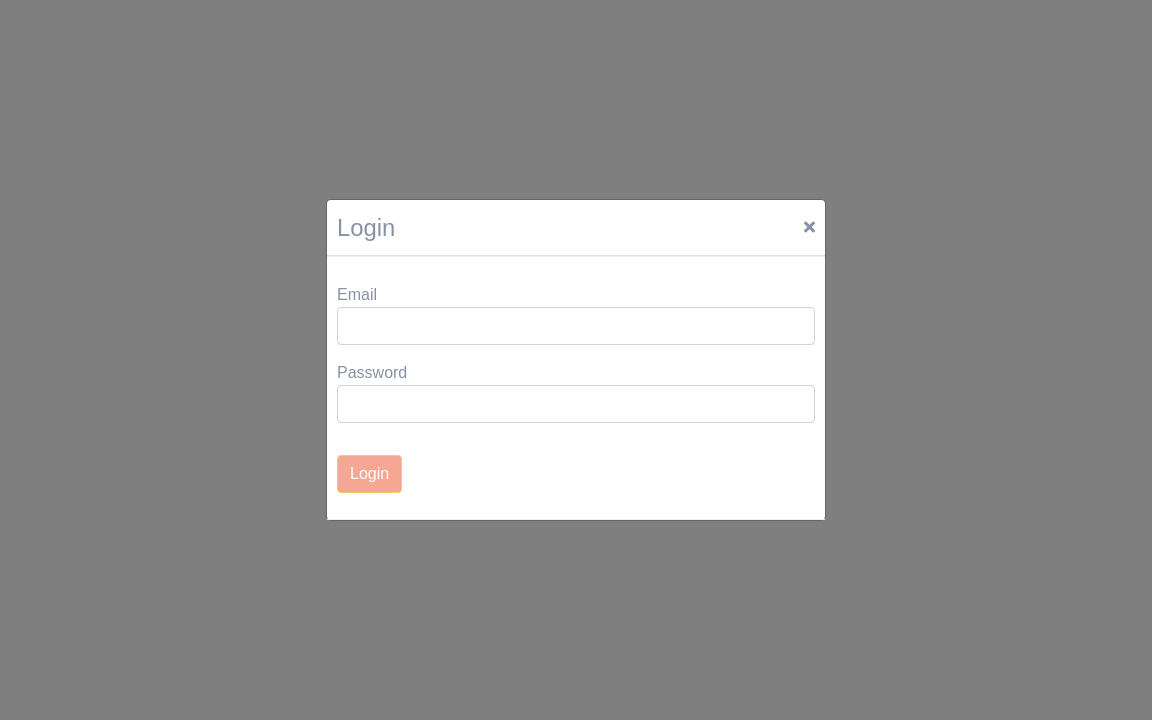
Scenario: Login › Login Form validation › Invalid credentials Login button should be "disabled" and err messages "should" present
Type "solar@@solar.com" into the field labelled "Email" at (576, 326), box top-left (337, 307), bottom-right (815, 345)
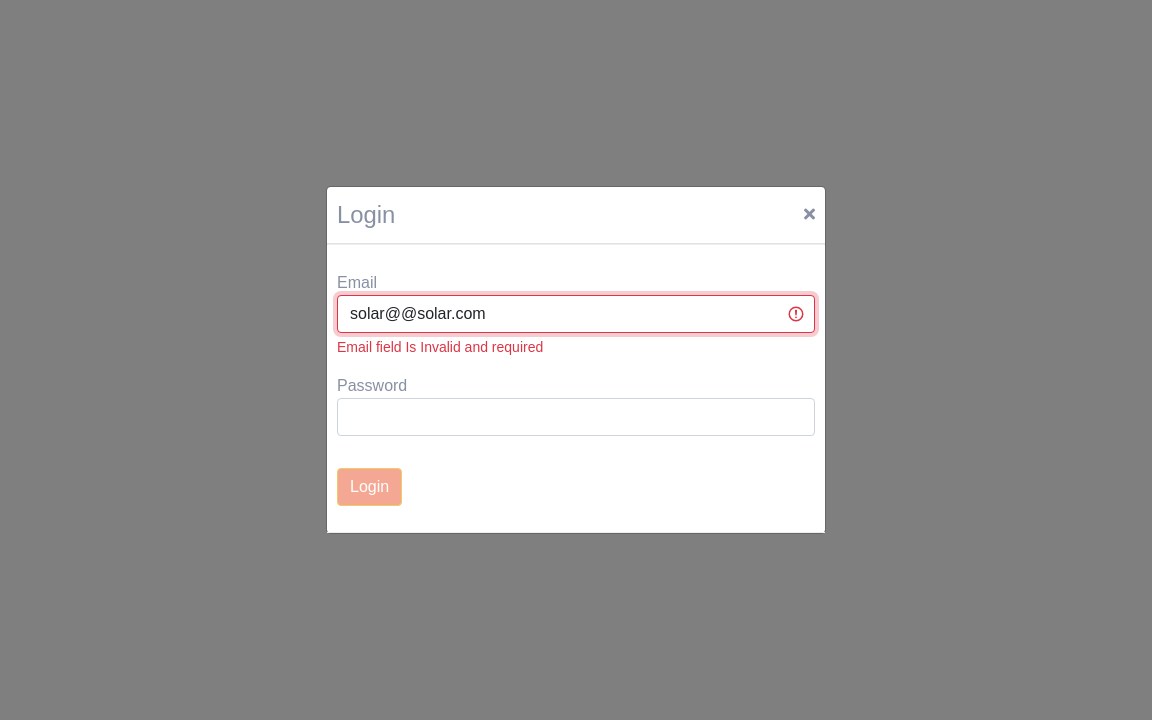
Type "p" into the password field labelled "Password" at (576, 417), box top-left (337, 398), bottom-right (815, 436)
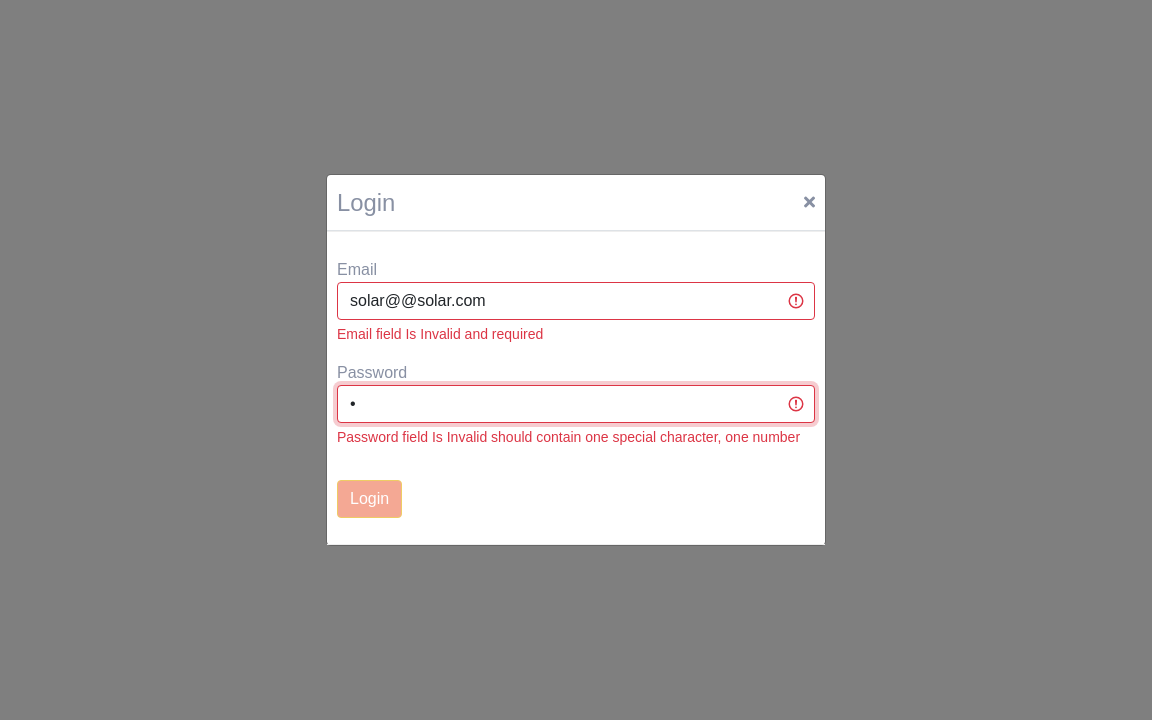
Expected: the button "Login" is disabled, top-left (337, 480), bottom-right (402, 518)
Expected: the text "Email field Is Invalid and required" is shown, top-left (337, 326), bottom-right (543, 342)
Expected: the text "Password field Is Invalid should contain one special character, one number" is shown, top-left (337, 427), bottom-right (815, 448)
